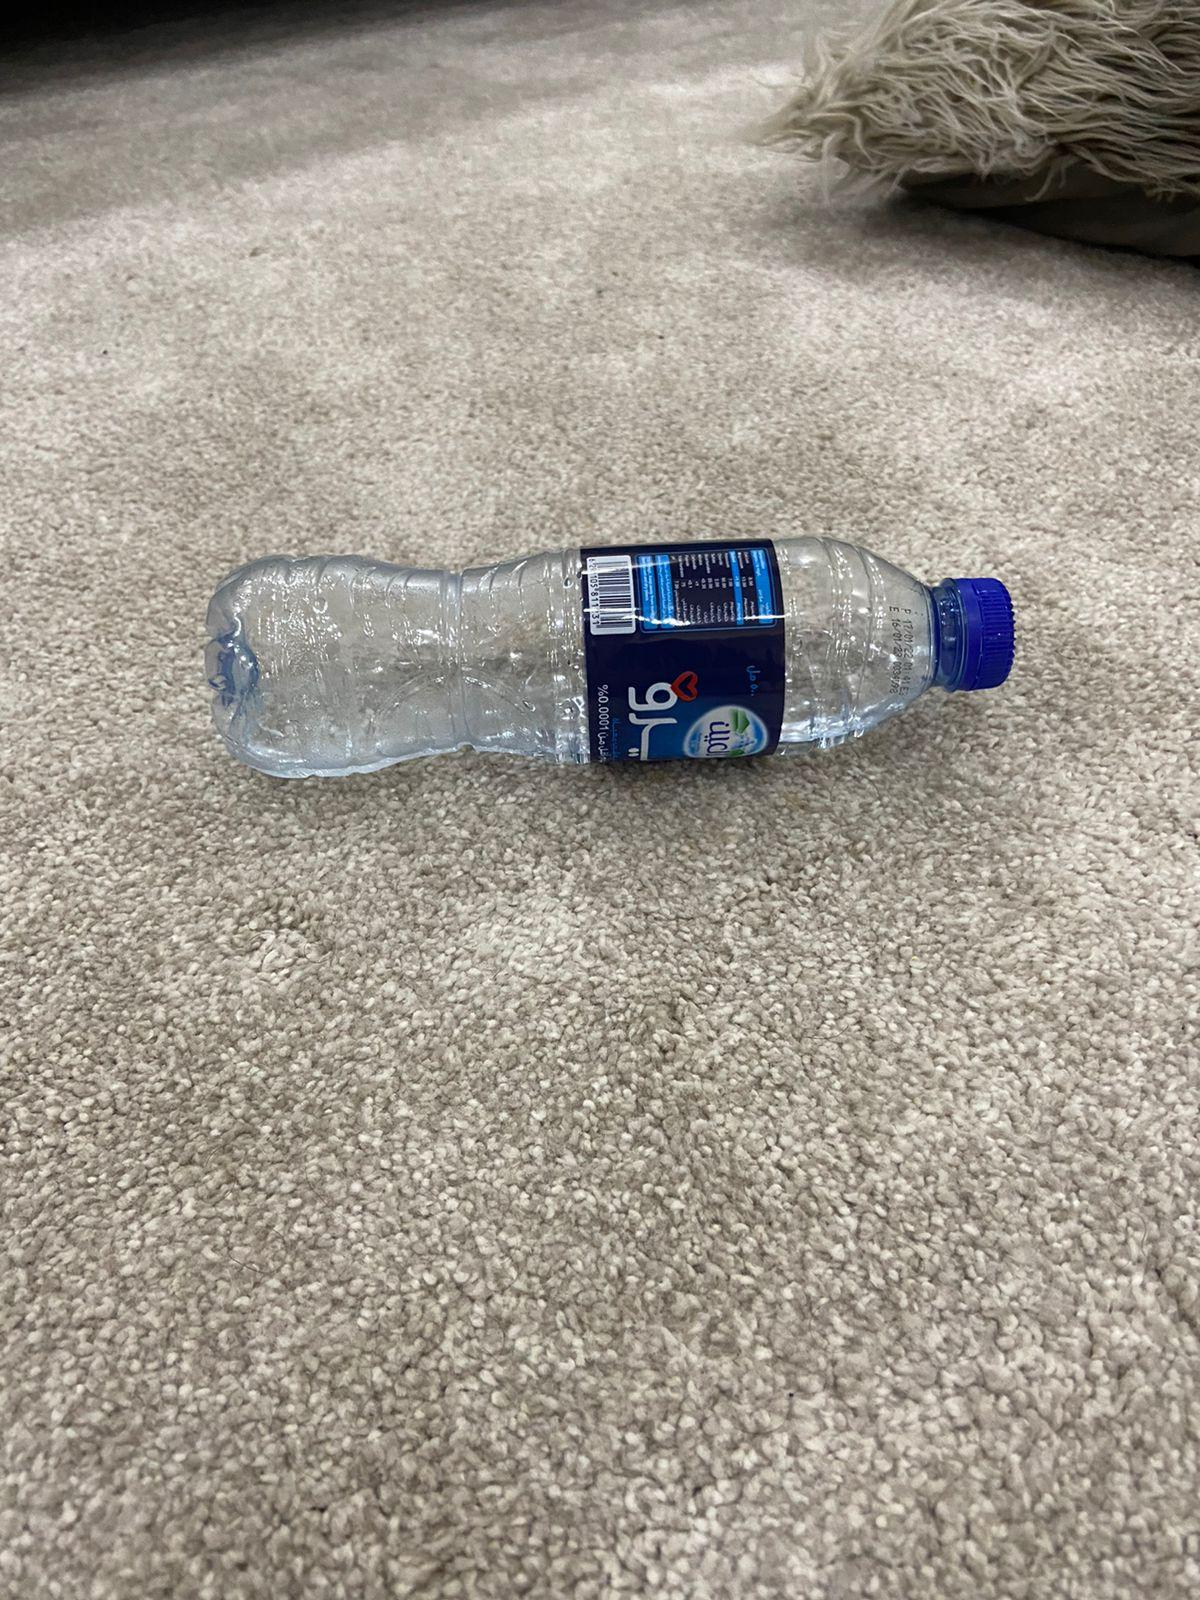bottle: (198, 523, 1027, 792)
